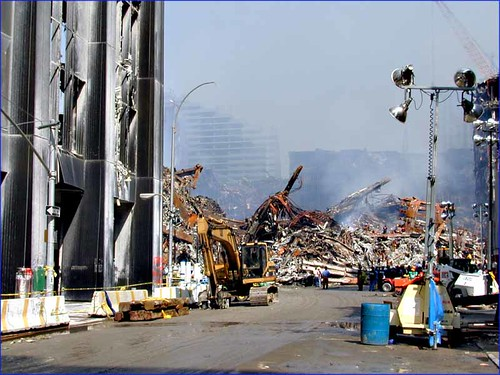building: (1, 1, 164, 290), (184, 88, 280, 175)
debris: (176, 162, 448, 287)
excavator: (195, 216, 277, 312)
sky: (165, 1, 458, 121)
street: (1, 289, 397, 375)
